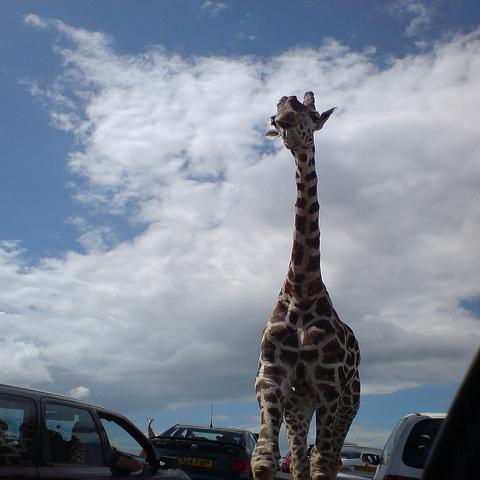car: (0, 382, 195, 480), (416, 344, 479, 480), (152, 422, 260, 480), (360, 413, 448, 479), (337, 446, 381, 472)
